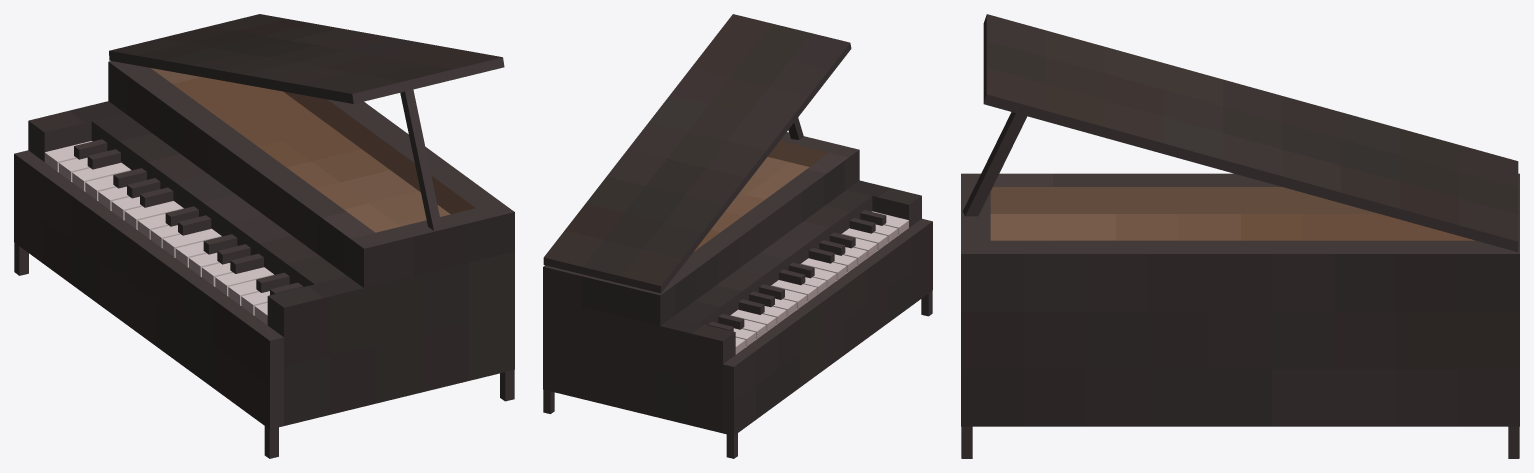
File: piano.gltf
3 renders of one model, left to right at view 1: azimuth 30°, elevation 25°; view 2: azimuth 150°, elevation 25°; view 3: azimuth 270°, elevation 25°, orthographic. The views are drawn at different scales.
Visible parts, largest first — view 1: cuboid (×5); view 2: cuboid (×4); view 3: cuboid (×4).
Boxes of the visible parts, x1,y1,x2,y2 form: cuboid (×5): (14, 14, 514, 458); cuboid (×4): (543, 14, 932, 458); cuboid (×4): (961, 14, 1519, 458).
Bounding box in the file's own units: 0.325 × 0.4229 × 0.5875.
Materials: 1 (1 with a texture image).
